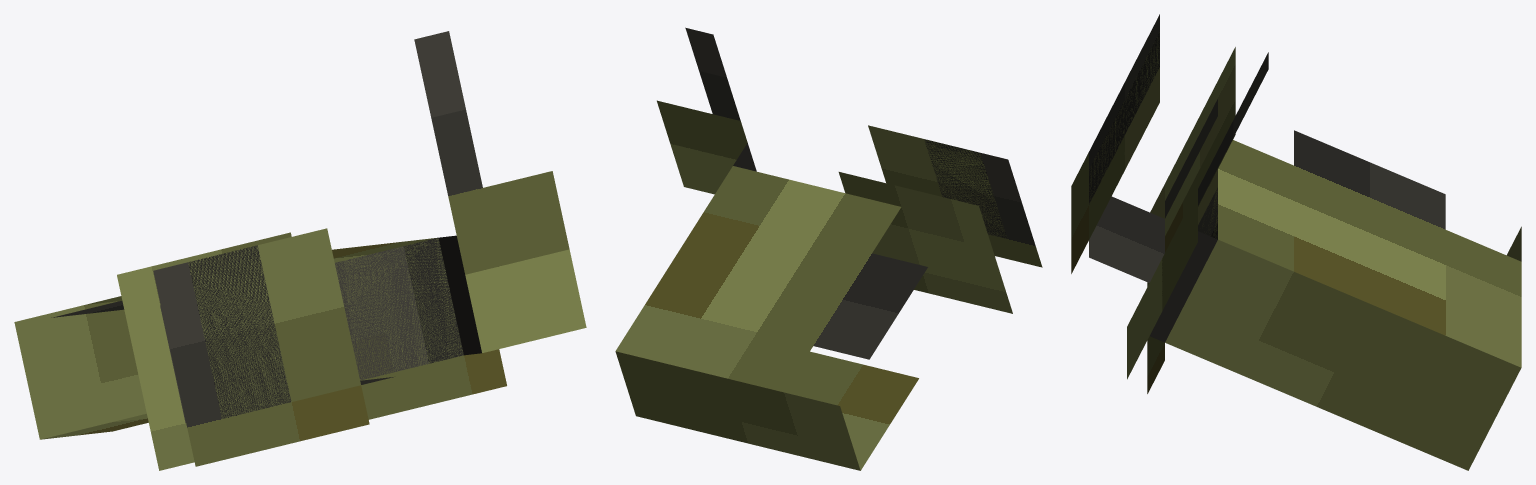
Rendered from sl_snorkel_mask.glb.
3 views of the same model, side by side, from view 1: azimuth 30°, elevation 25°; view 2: azimuth 150°, elevation 25°; view 3: azimuth 270°, elevation 25° (orthographic). The views are drawn at different scales.
Visible parts, largest first — view 1: bb_snorkel_mask; view 2: bb_snorkel_mask; view 3: bb_snorkel_mask.
Boxes of the visible parts, x1,y1,x2,y2 form: bb_snorkel_mask: (14, 31, 586, 470); bb_snorkel_mask: (615, 27, 1042, 470); bb_snorkel_mask: (1071, 14, 1521, 470).
Bounding box in the file's own units: 0.75 × 0.6909 × 0.6721.
Materials: 1 (1 with a texture image).
